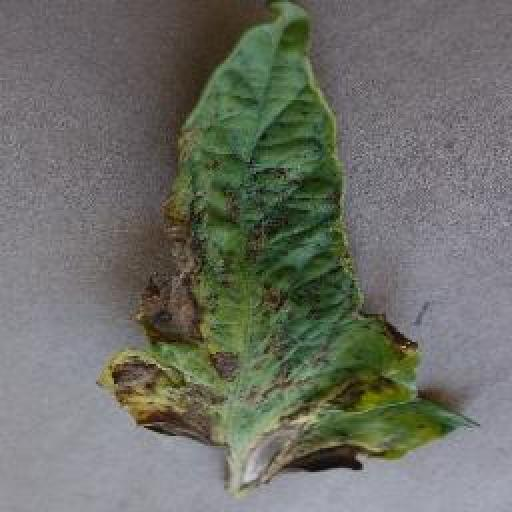Early Blight: (94, 1, 481, 495)
